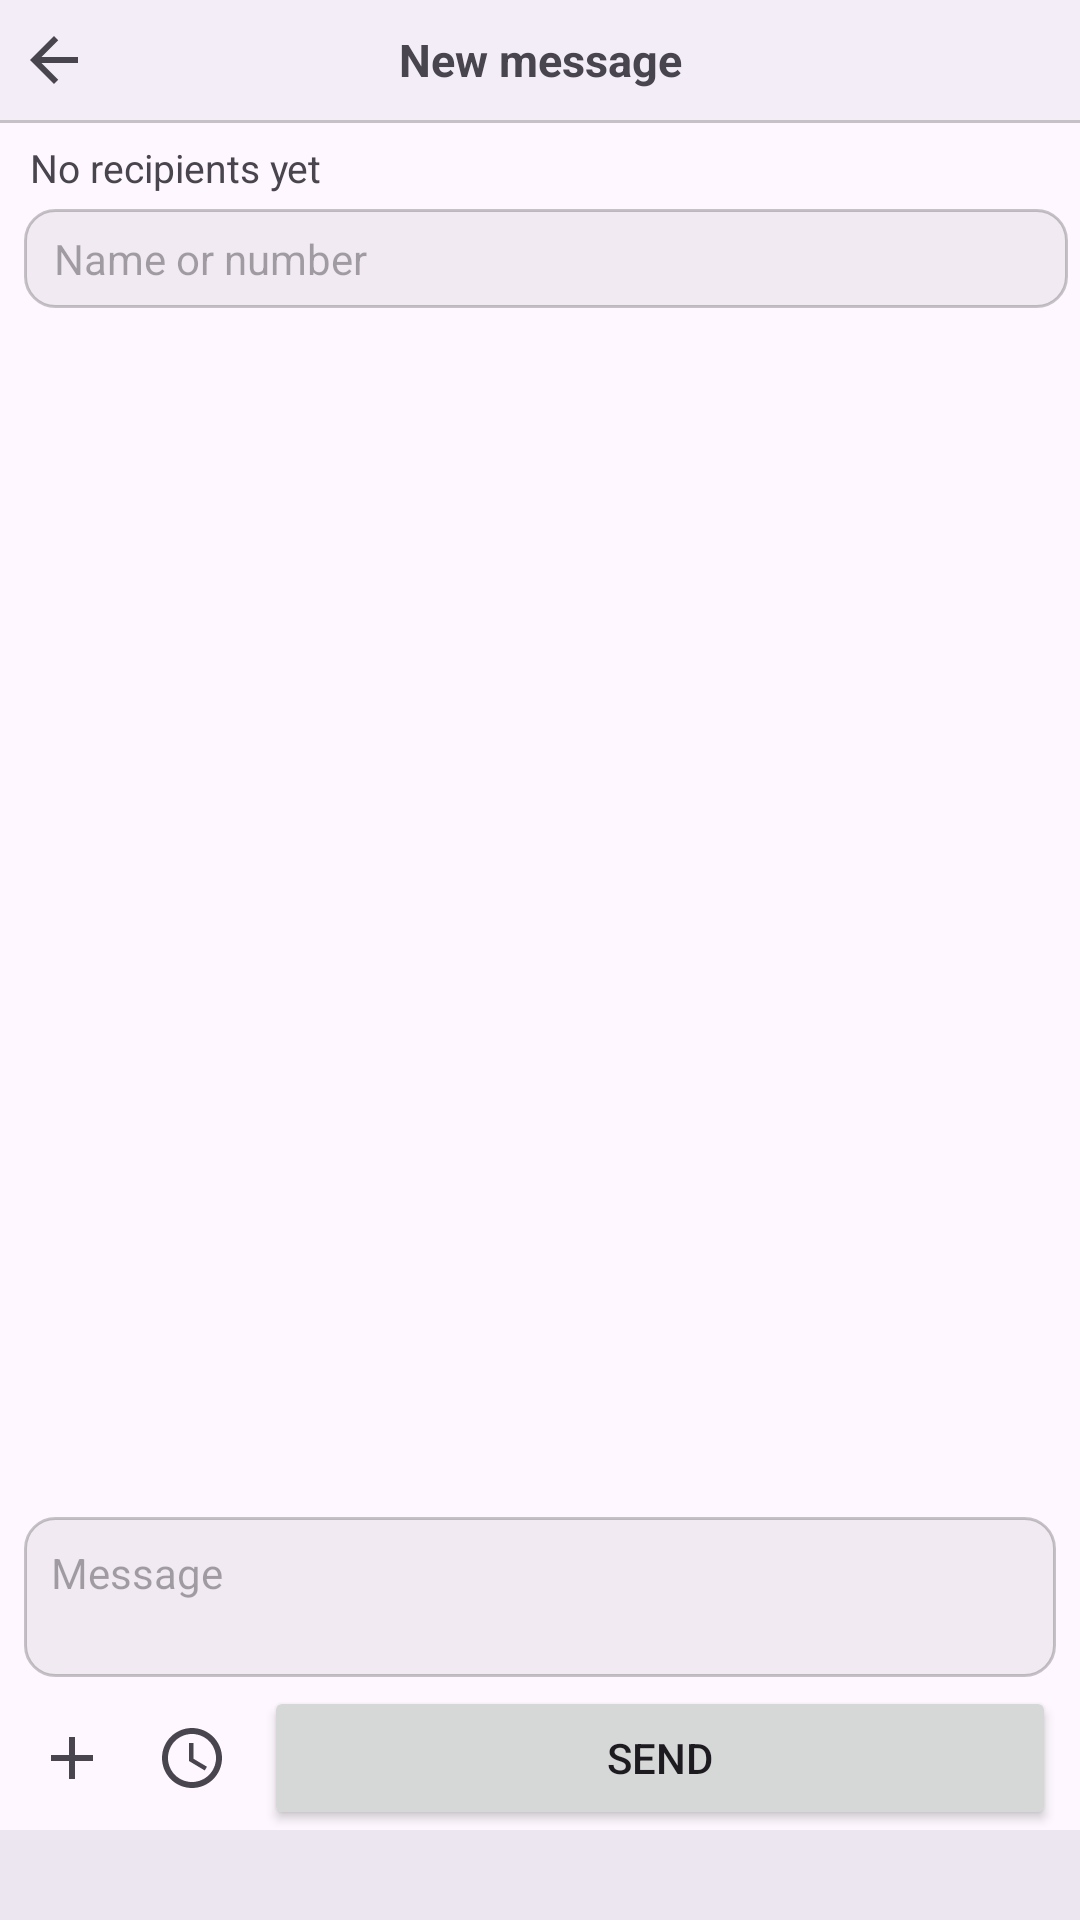

Named icons in this screenshot (1080 x 1920) and their centers, [x,y]:
Attach: [72,1758]
Back: [54,60]
Schedule: [192,1758]
